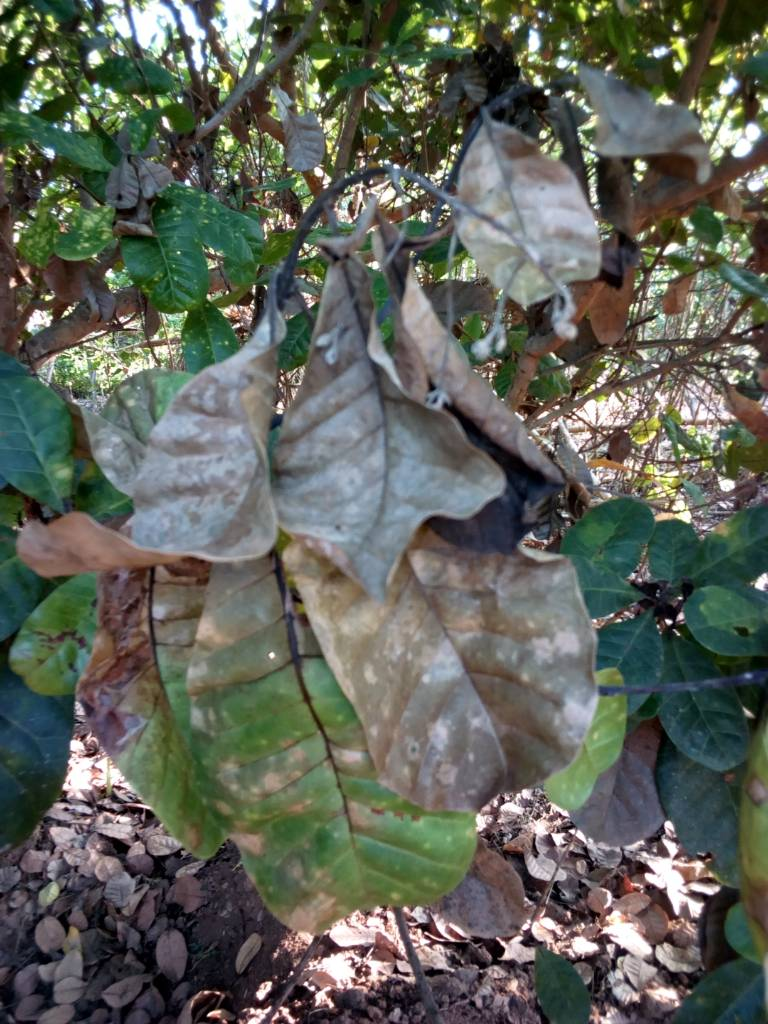Die-black: (9, 240, 295, 608), (219, 571, 493, 949), (307, 519, 618, 819), (271, 241, 515, 566), (395, 278, 572, 563), (436, 82, 619, 307), (566, 40, 729, 190)
